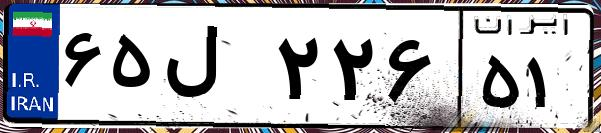1: (525, 38, 570, 115)
2: (270, 28, 330, 110), (330, 28, 385, 110)
5: (475, 38, 525, 113), (110, 28, 158, 98)
6: (385, 28, 445, 110), (57, 26, 110, 100)
ل: (158, 20, 270, 120)
